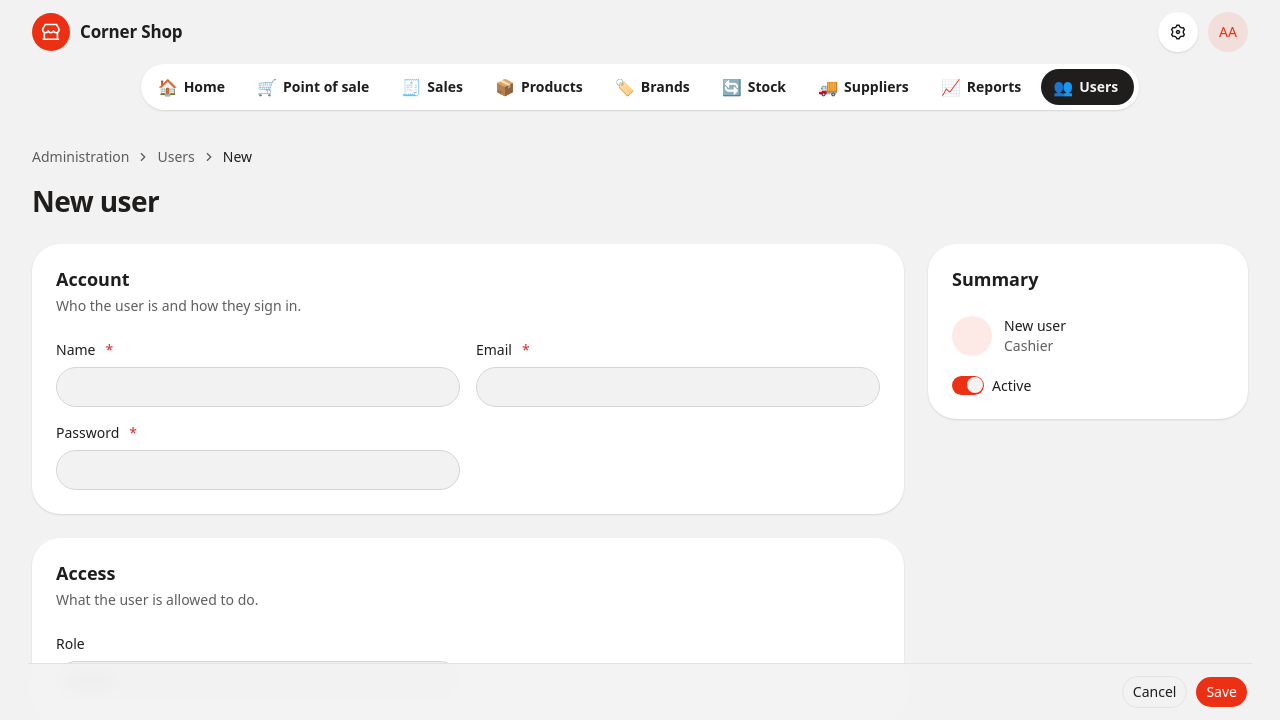
UserFormPage › shows a duplicate email error on the field
Type "Bob" into the field labelled "Name". click: (258,387)
box: [56,367,460,407]
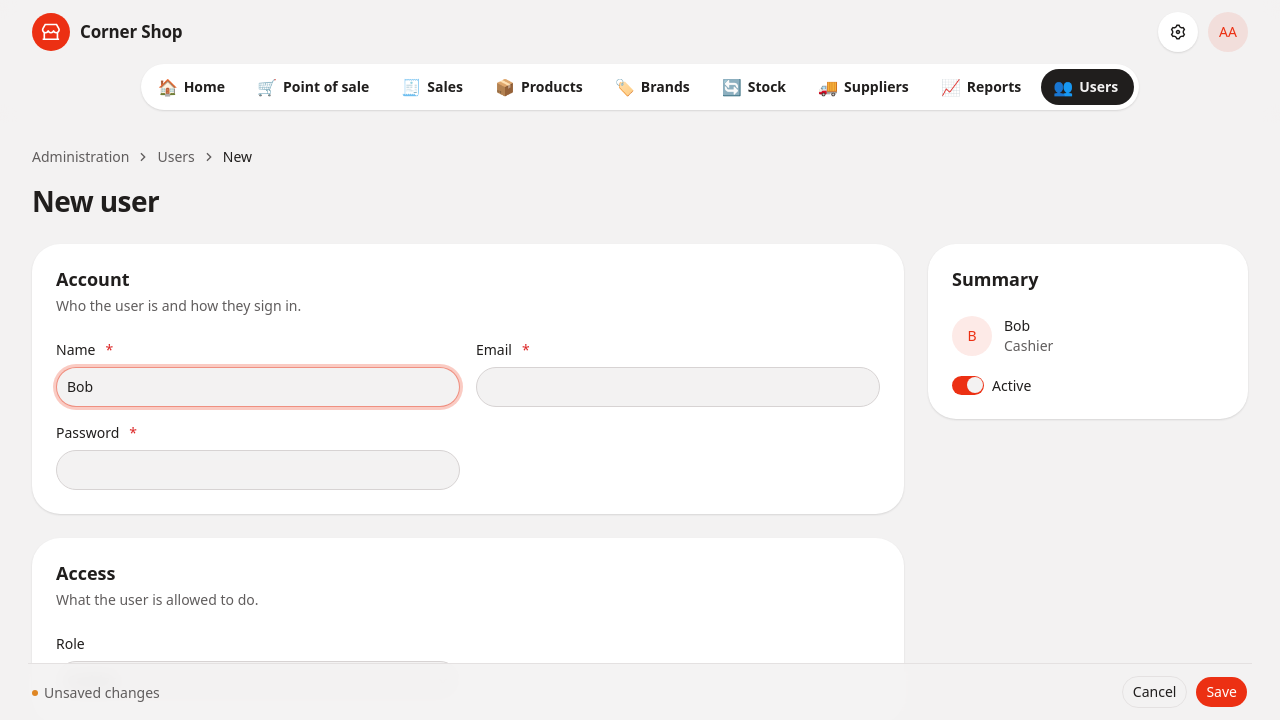
Type "bob@example.com" into the field labelled "Email". click: (678,387)
box: [476,367,880,407]
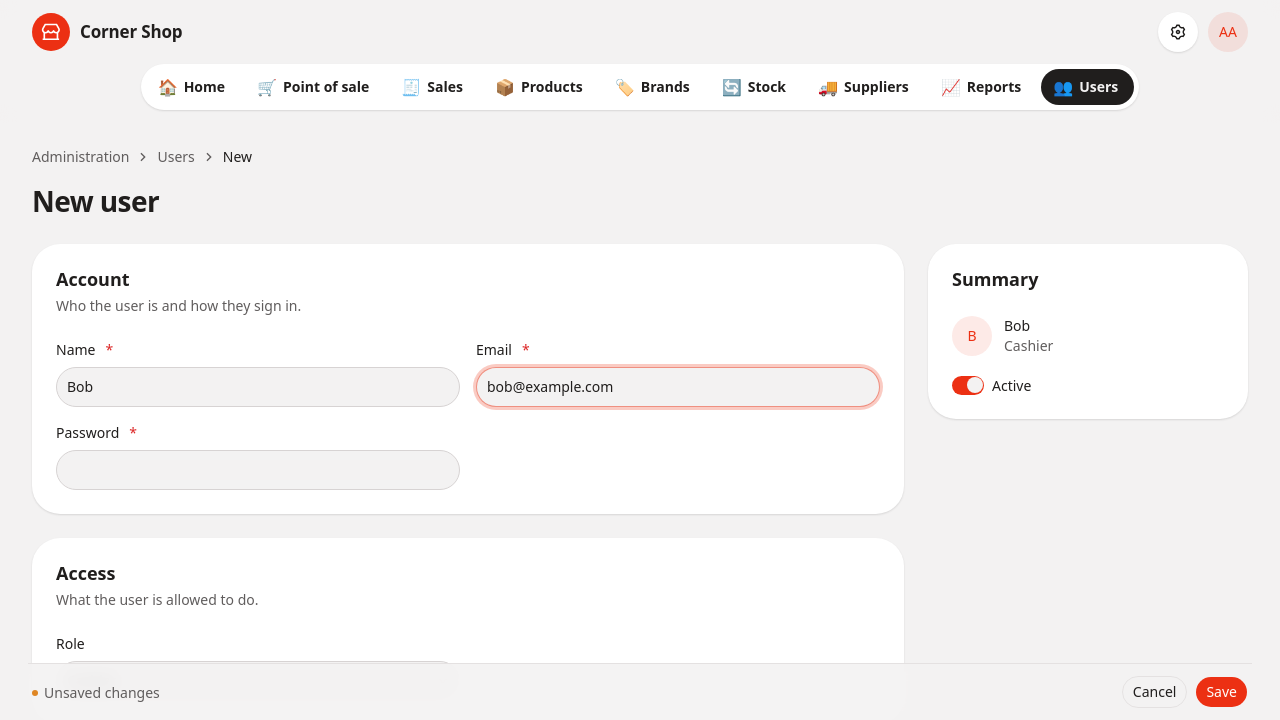
Type "secret-123" into the password field labelled "Password". click: (258,470)
box: [56,450,460,490]
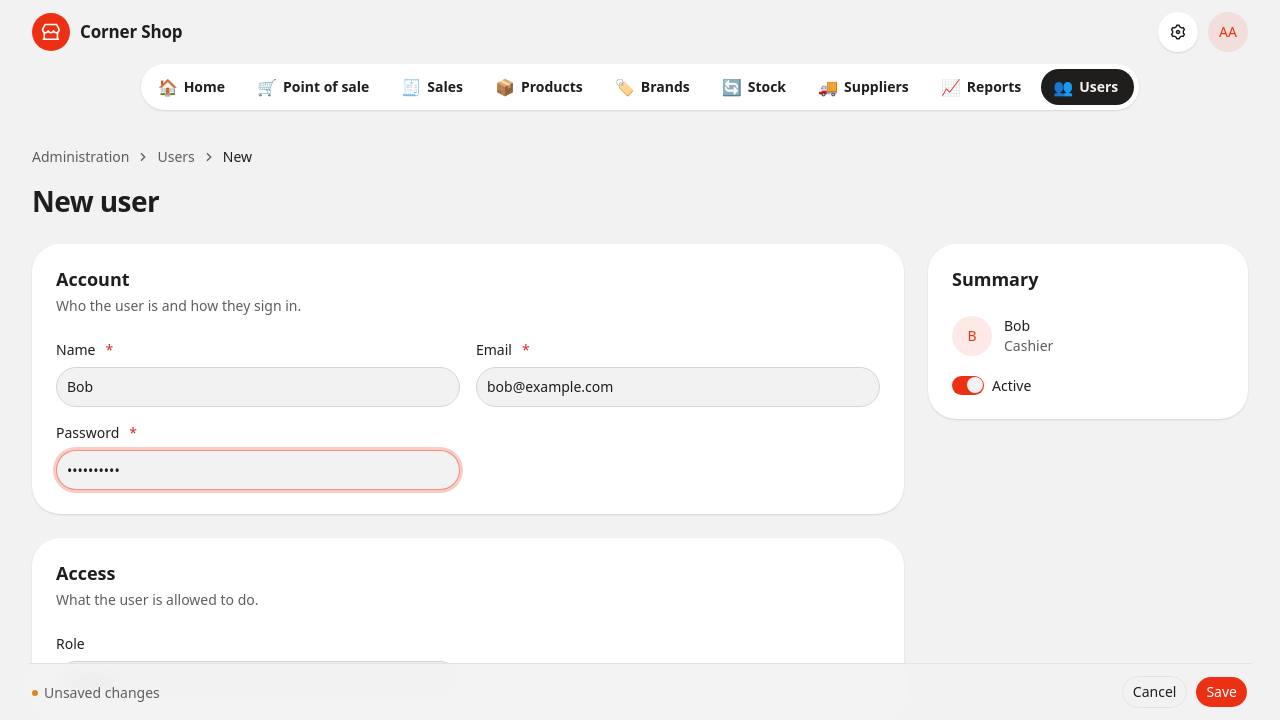
Click the button "Save". click: (1222,692)
box: [1195,676,1248,708]
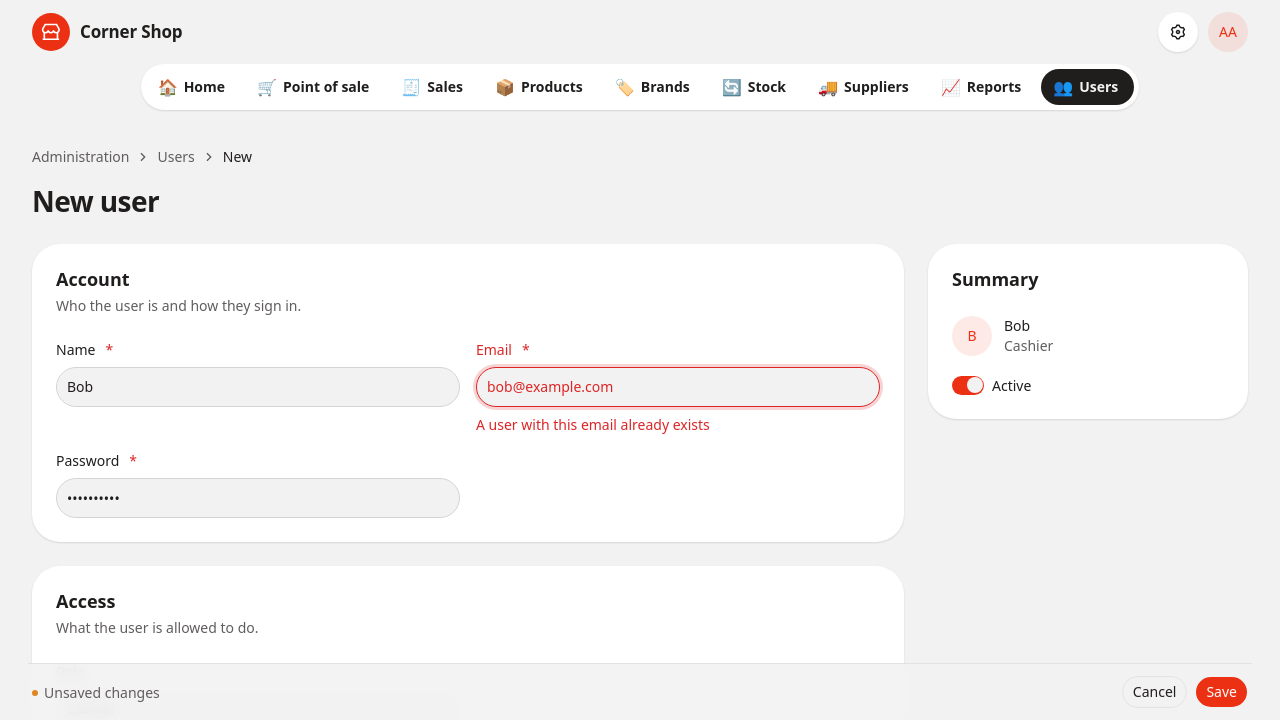
Expected: the text "A user with this email already exists" is shown, [476,415,710,434]
